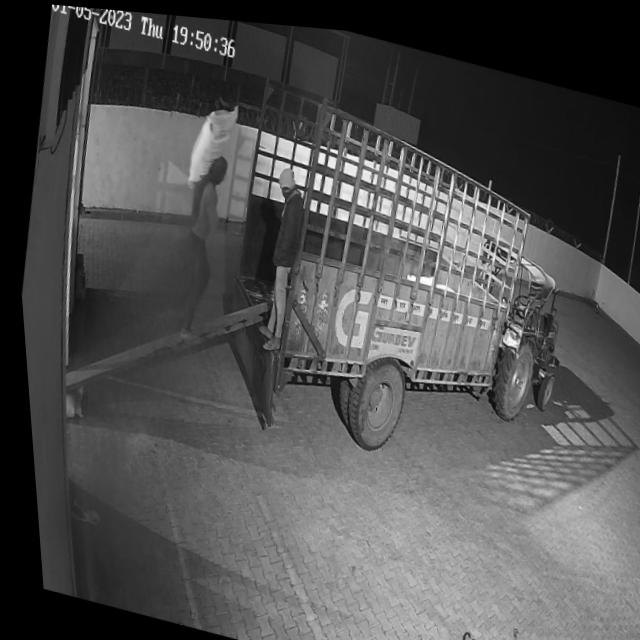sack: (181, 91, 243, 191)
